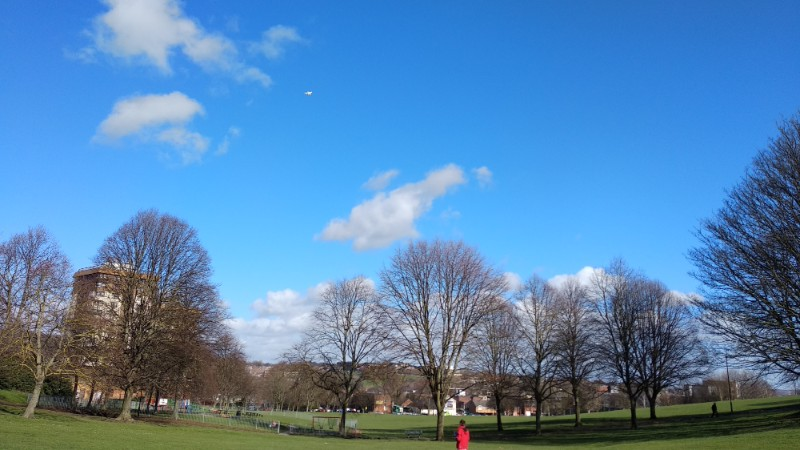drone: (303, 90, 313, 97)
